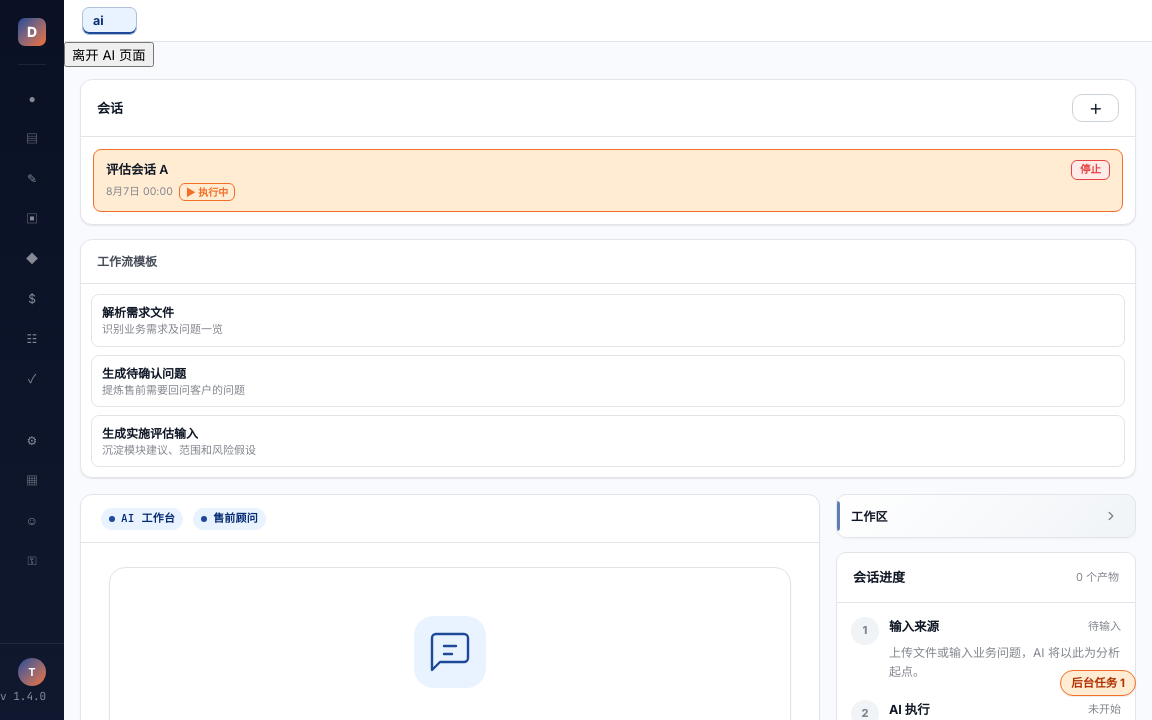
Test: explicit-stop: G4 明确停止 › explicit-stop: 二次确认取消不产生 cancel
Click the button with aria-label "停止后台任务：后台任务 A": (1090, 170) [1071,160,1110,180]
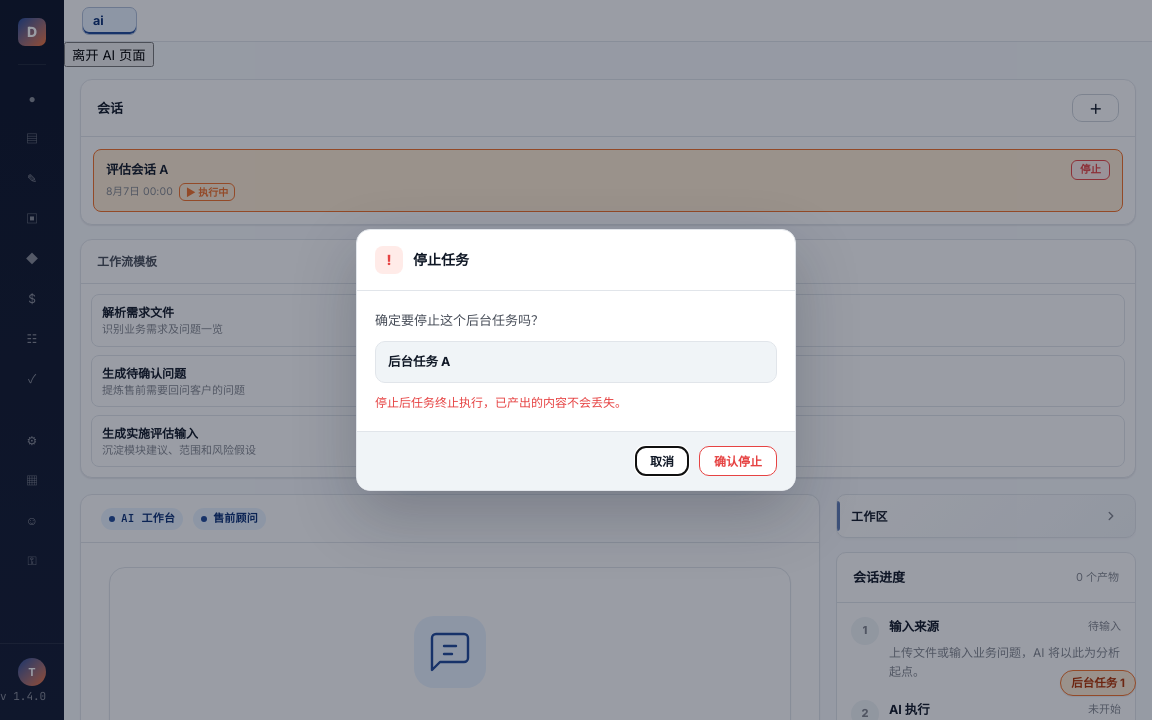
Result: the dialog "停止任务" is shown at [356,229,796,491]
Click the button "取消": (662, 461) [635,446,689,476]
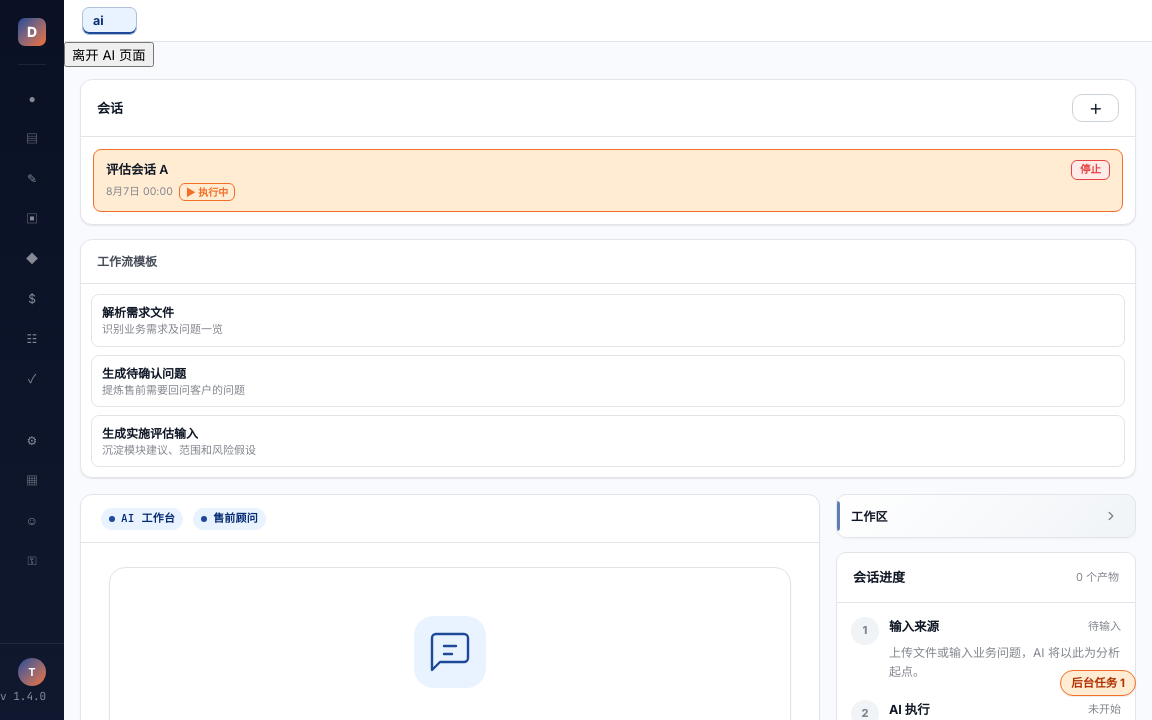
Result: the text "停止任务" is gone
